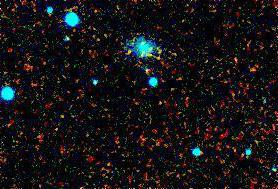star: (240, 53, 270, 83)
